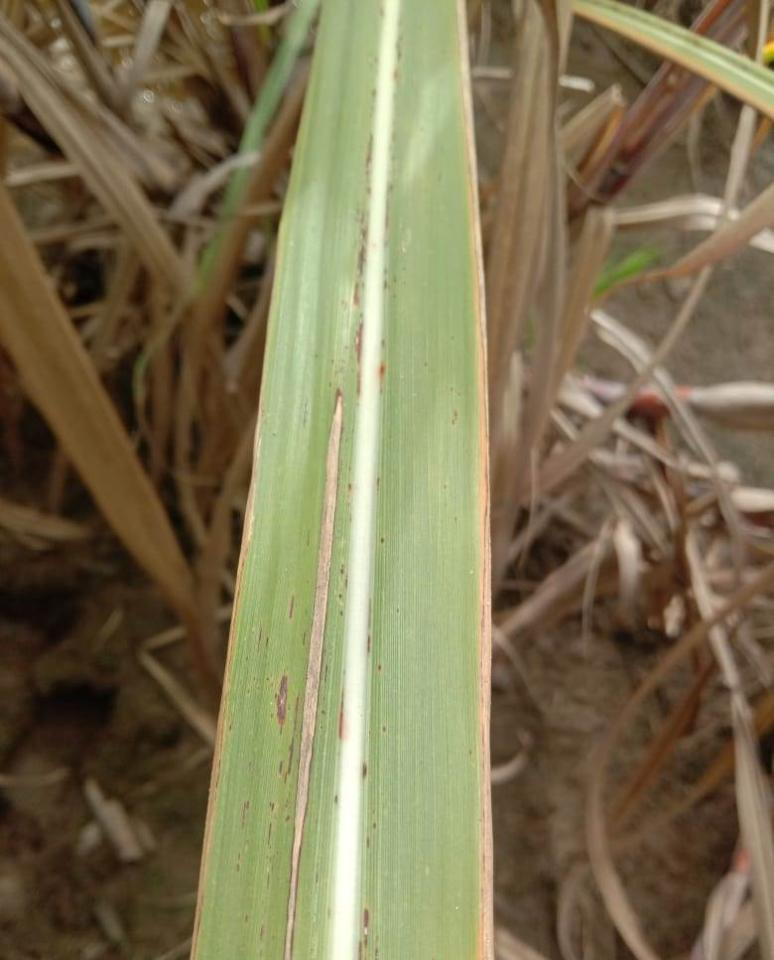Rust: (461, 109, 488, 629), (273, 675, 288, 737), (353, 313, 365, 365), (353, 209, 369, 243), (337, 685, 345, 744), (363, 908, 372, 948), (356, 244, 367, 276), (396, 24, 405, 60), (292, 694, 300, 733), (256, 619, 264, 654), (288, 736, 295, 775), (365, 142, 373, 176), (351, 282, 362, 306), (241, 800, 250, 829), (355, 369, 364, 398), (288, 594, 296, 620), (450, 408, 460, 427), (368, 600, 374, 629), (305, 527, 312, 549), (258, 925, 265, 945), (268, 822, 273, 845), (279, 761, 286, 777), (300, 630, 307, 646), (358, 941, 364, 959), (324, 664, 329, 685), (362, 762, 368, 779), (266, 873, 271, 890), (339, 562, 345, 576), (393, 69, 399, 83), (376, 663, 384, 673), (344, 573, 349, 589), (327, 380, 334, 391), (367, 635, 371, 654), (283, 771, 288, 786), (247, 761, 253, 773), (370, 89, 378, 98), (269, 802, 276, 812), (284, 814, 291, 824), (265, 636, 270, 650), (366, 187, 373, 197), (388, 184, 395, 193), (314, 873, 319, 885), (347, 482, 353, 492), (383, 267, 389, 277), (366, 836, 370, 850), (422, 360, 430, 367), (380, 536, 386, 545), (383, 280, 389, 289), (321, 709, 328, 716), (313, 352, 320, 359), (467, 749, 473, 757), (244, 914, 249, 923), (377, 476, 380, 491), (381, 339, 386, 348), (393, 275, 398, 284), (381, 726, 387, 733), (228, 723, 233, 731), (330, 358, 335, 366), (322, 695, 326, 704), (265, 676, 271, 682), (395, 607, 401, 613), (337, 593, 343, 599), (372, 822, 377, 829), (339, 610, 344, 617), (361, 281, 366, 288), (238, 850, 241, 861), (334, 795, 338, 803), (269, 713, 274, 718), (237, 864, 240, 872), (253, 676, 256, 682)
